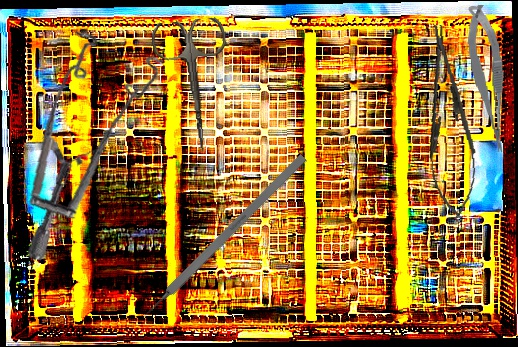Hook Surgical: (134, 152, 308, 327)
Iris Scissors: (150, 16, 238, 156)
Micro Scissor: (464, 3, 510, 155)
Needle Holder: (415, 22, 483, 221)
Speculum: (8, 22, 180, 262)
